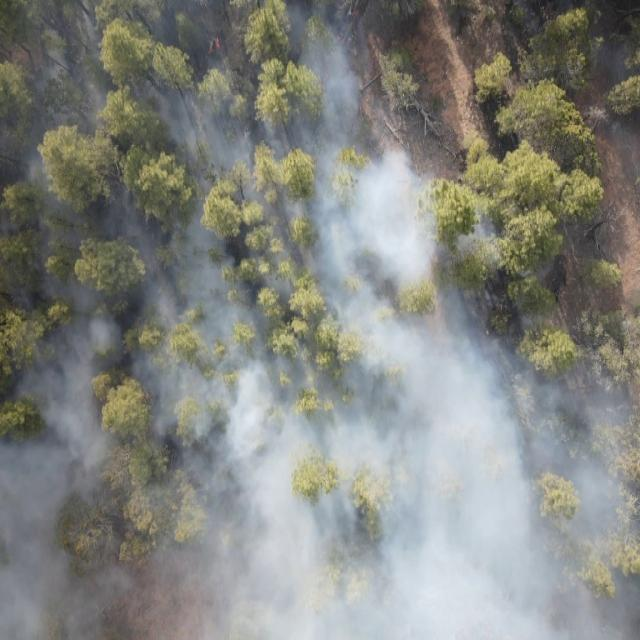fire: (208, 36, 224, 58)
smoke: (0, 0, 378, 640), (377, 147, 499, 640), (499, 241, 640, 640), (608, 43, 640, 188)
